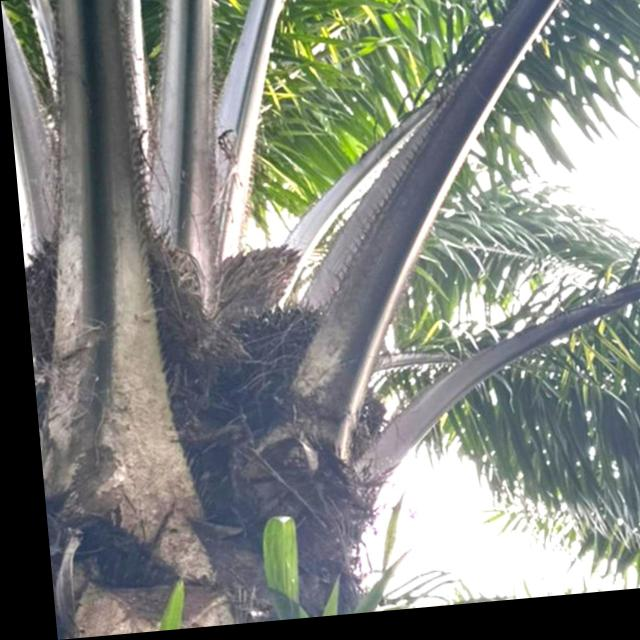unripe: (202, 289, 339, 436)
